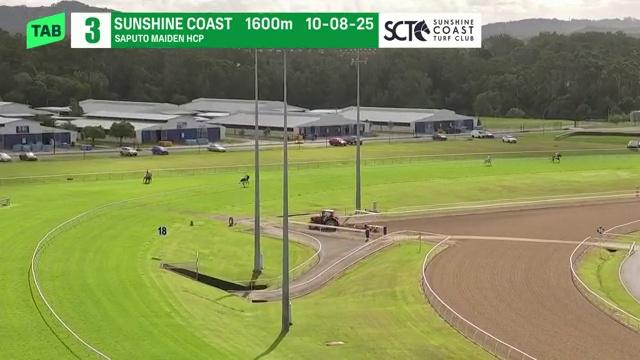racing-horse: (139, 165, 160, 191), (543, 149, 568, 167), (479, 153, 503, 171), (234, 172, 258, 190)
